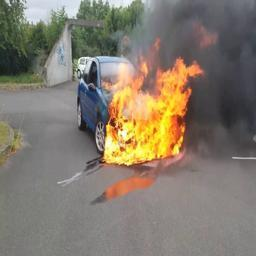fire: (103, 38, 206, 166)
